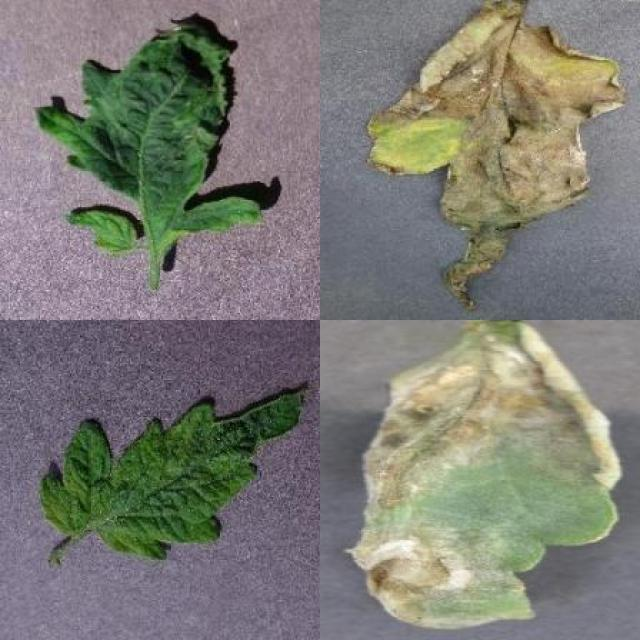Late Blight: (345, 320, 624, 630), (364, 0, 626, 313)
Mosaic Virus: (36, 22, 264, 251), (36, 386, 310, 563)
